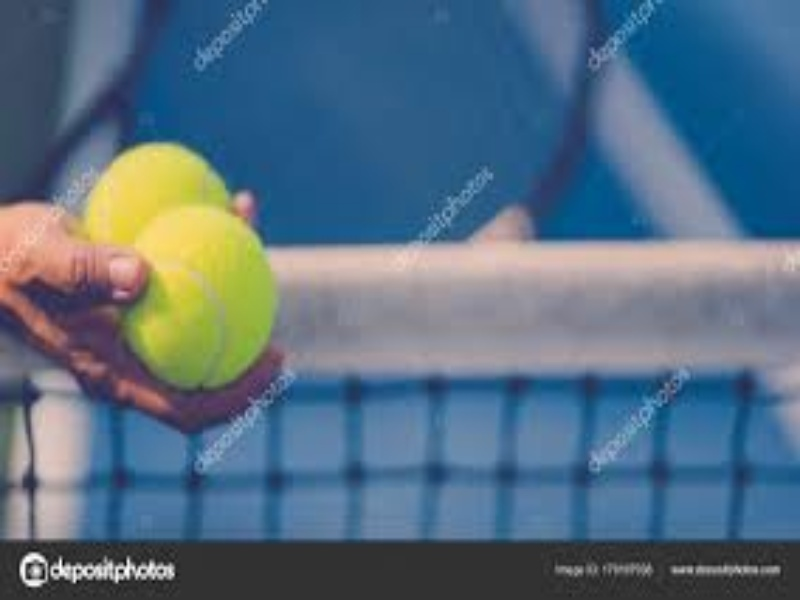tennis ball: (116, 185, 278, 399), (85, 139, 245, 266)
